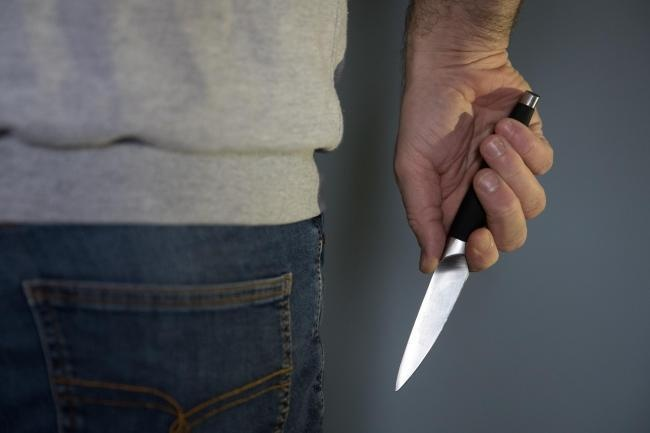knife: (393, 89, 543, 394)
